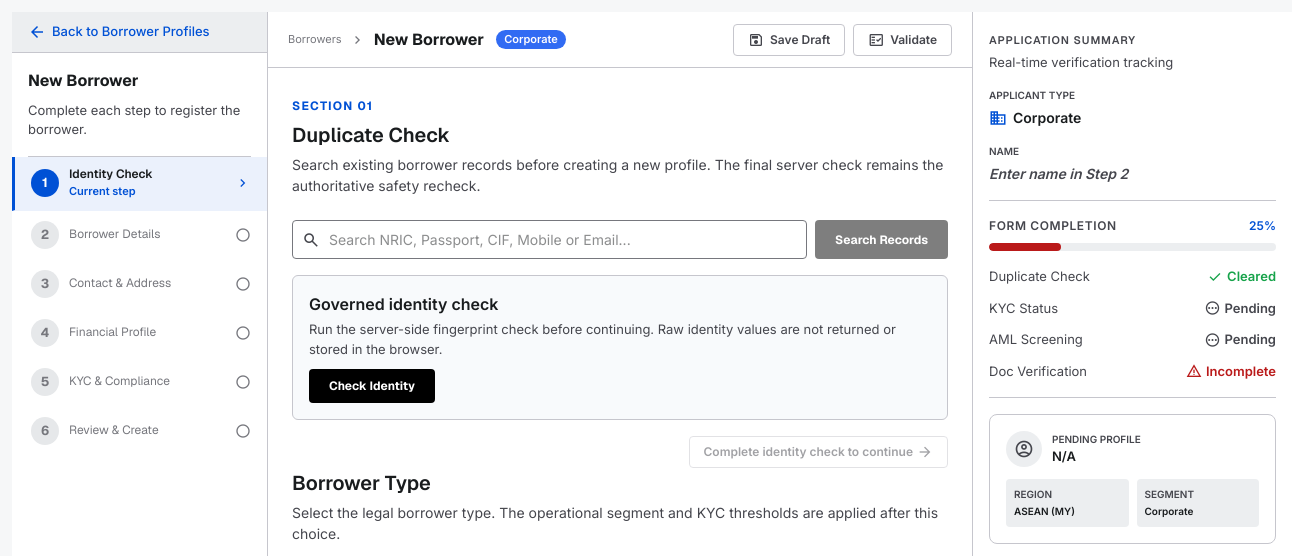
Test: CreateBorrowerPage governed identity gate › runs the governed identity check when the user taps Search Records
Type "900101141234" into the field with placeholder "Search NRIC, Passport, CIF, Mobile or Email..." at coordinates (550, 240), box [292,220,807,259]
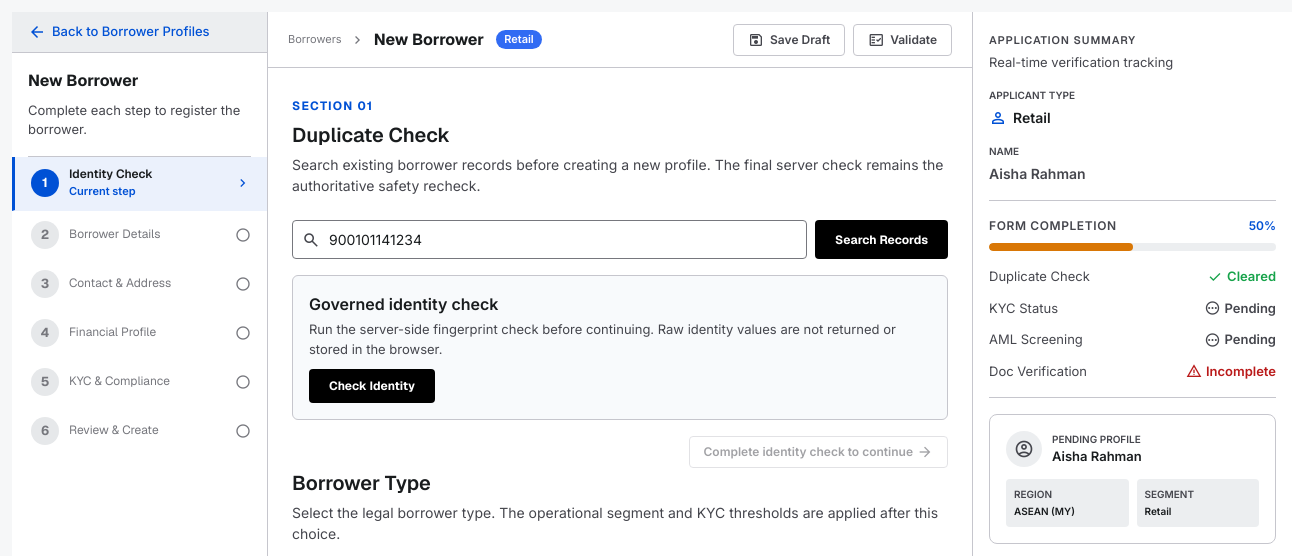
Click the button "Search Records" at coordinates (882, 240), box [815,220,948,259]
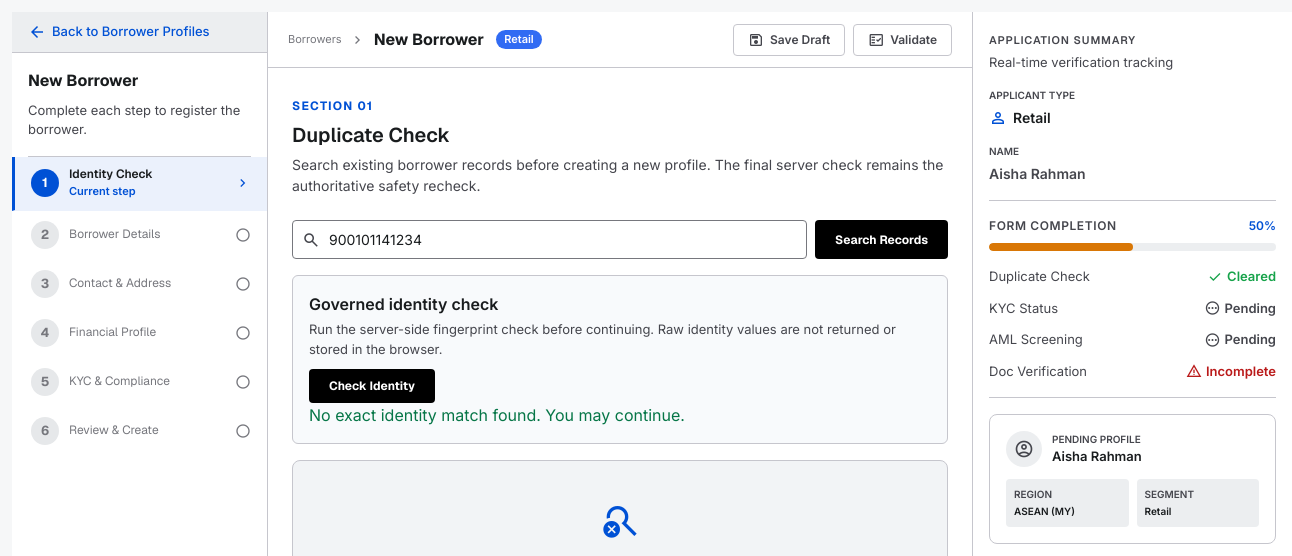
Expected: the text "No exact identity match found. You may continue." is shown, [309,405,685,425]
